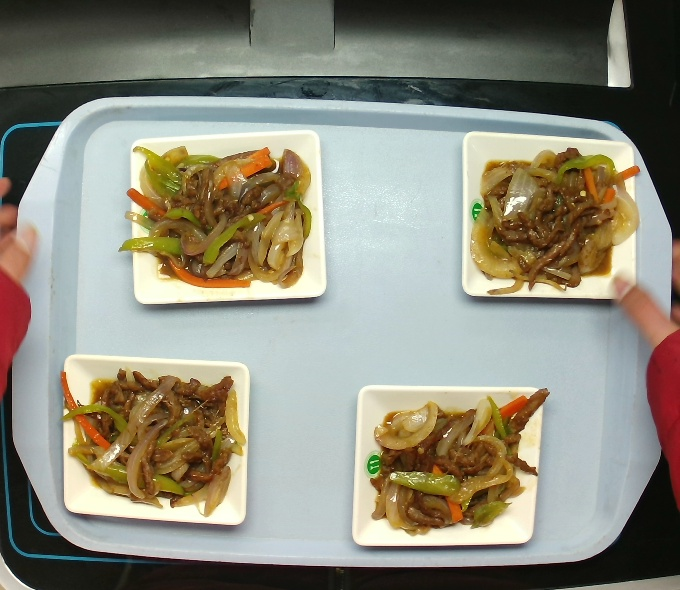wcq-NiuYangCongNiuLiu: (123, 136, 312, 293), (462, 139, 644, 300), (64, 365, 243, 509), (369, 391, 542, 528)
